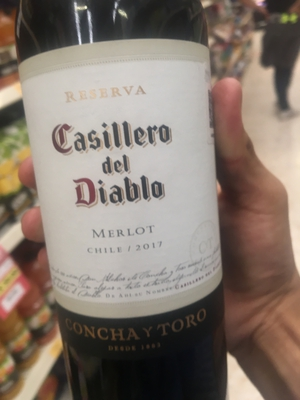casillero del diablo merlot: (13, 4, 236, 391)
